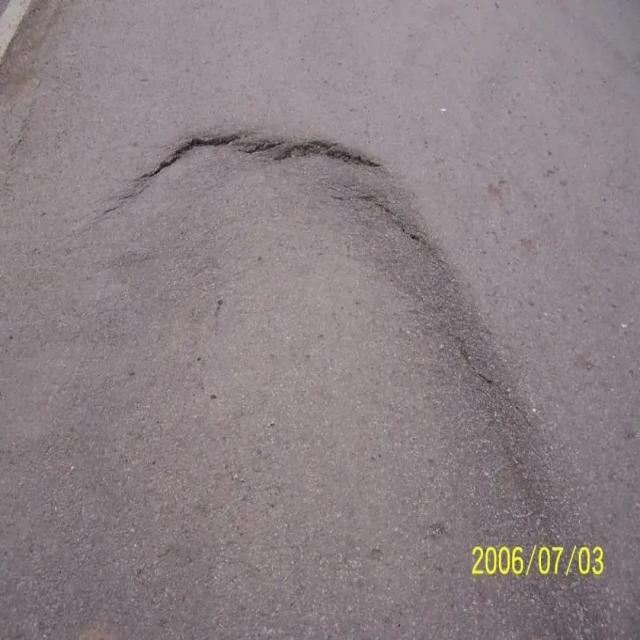Pothole: (110, 136, 389, 200)
